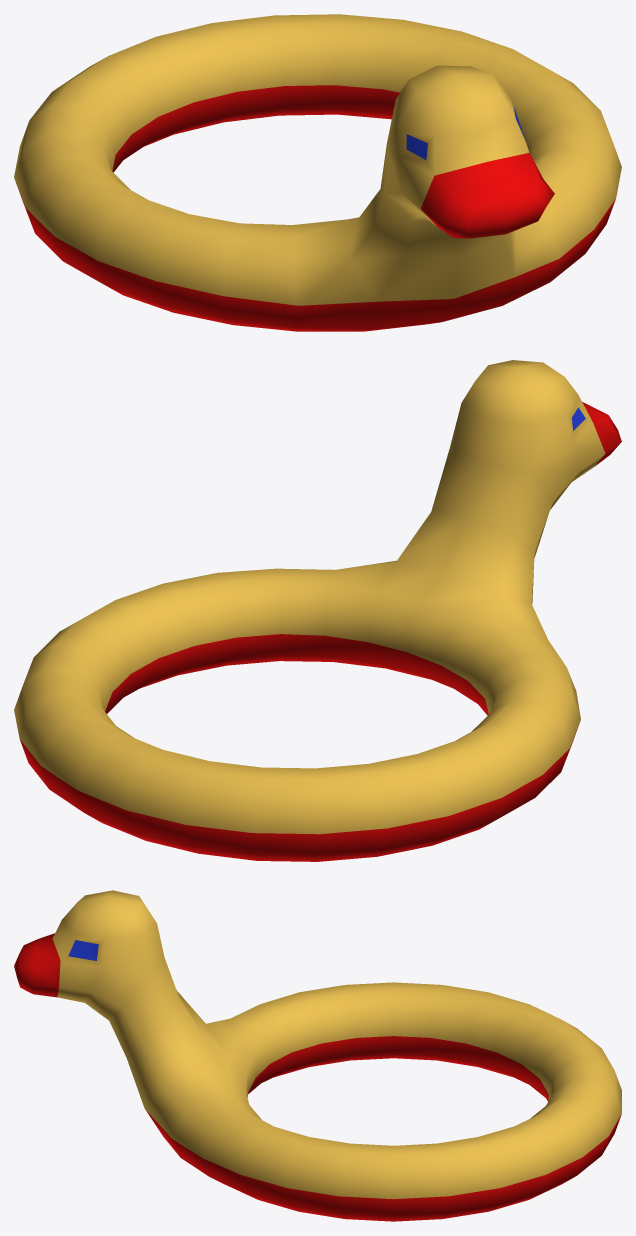
Rendered from RuberDuck.fbx.
3 renders of one model, top to bottom at view 1: azimuth 30°, elevation 25°; view 2: azimuth 150°, elevation 25°; view 3: azimuth 270°, elevation 25°, orthographic. The views are drawn at different scales.
Parts seen in each view (by area): view 1: Torus; view 2: Torus; view 3: Torus.
Boxes of the visible parts, left/top/right/bottom form: Torus: left=14, top=14, right=621, bottom=331; Torus: left=14, top=360, right=621, bottom=861; Torus: left=14, top=890, right=621, bottom=1221.
Bounding box in the file's own units: 63.28 × 33.61 × 83.65.
